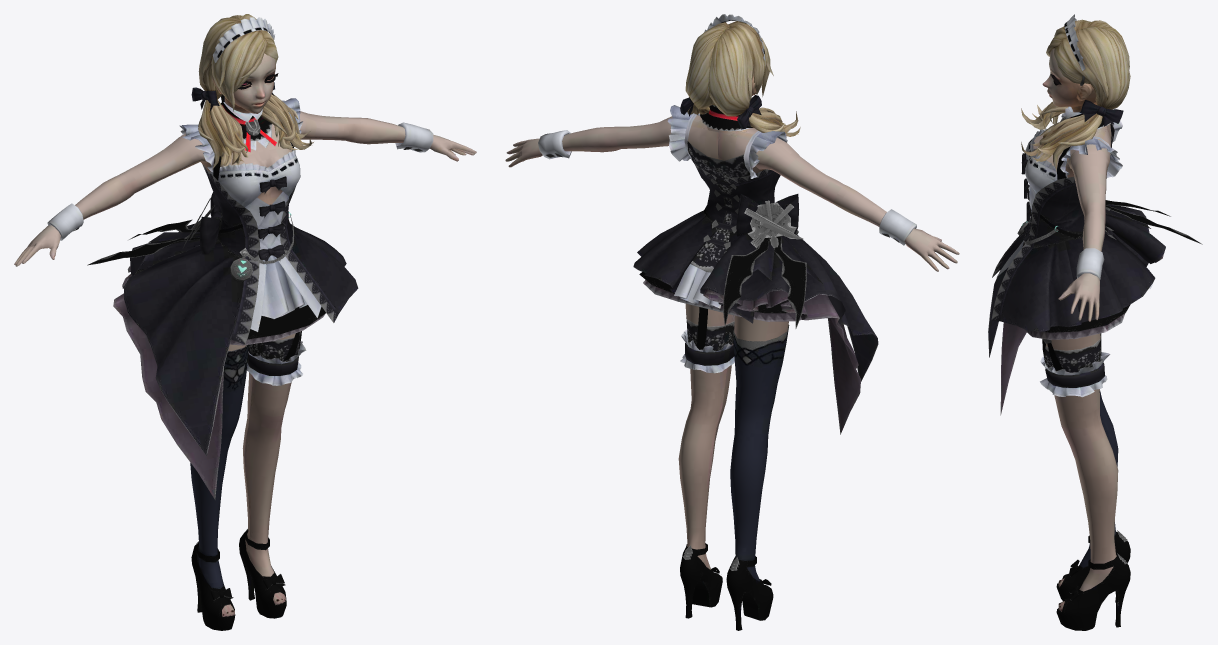
Rendered from anime_girl.obj.
The picture shows the model from 3 angles, left to right: view 1: azimuth 30°, elevation 25°; view 2: azimuth 150°, elevation 25°; view 3: azimuth 270°, elevation 25°; orthographic projection.
Visible parts, largest first — view 1: Mesh_0010, Mesh_0012, Mesh_0046, Mesh_0006, Mesh_0008; view 2: Mesh_0010, Mesh_0012, Mesh_0046, Mesh_0006; view 3: Mesh_0010, Mesh_0012, Mesh_0006, Mesh_0046, Mesh_0008.
Boxes of the visible parts, <box> form: Mesh_0010: <box>47,95,433,630</box>; Mesh_0012: <box>14,97,476,616</box>; Mesh_0046: <box>113,266,324,588</box>; Mesh_0006: <box>191,14,313,169</box>; Mesh_0008: <box>212,53,275,113</box>; Mesh_0010: <box>538,104,916,630</box>; Mesh_0012: <box>505,104,959,577</box>; Mesh_0046: <box>643,280,860,581</box>; Mesh_0006: <box>680,14,800,142</box>; Mesh_0010: <box>988,106,1202,630</box>; Mesh_0012: <box>1033,102,1118,611</box>; Mesh_0006: <box>1021,14,1130,171</box>; Mesh_0046: <box>1000,242,1163,567</box>; Mesh_0008: <box>1042,48,1096,107</box>.
Bounding box in the file's own units: 71.68 × 90.04 × 29.52.
Materials: 6 (6 with a texture image).
